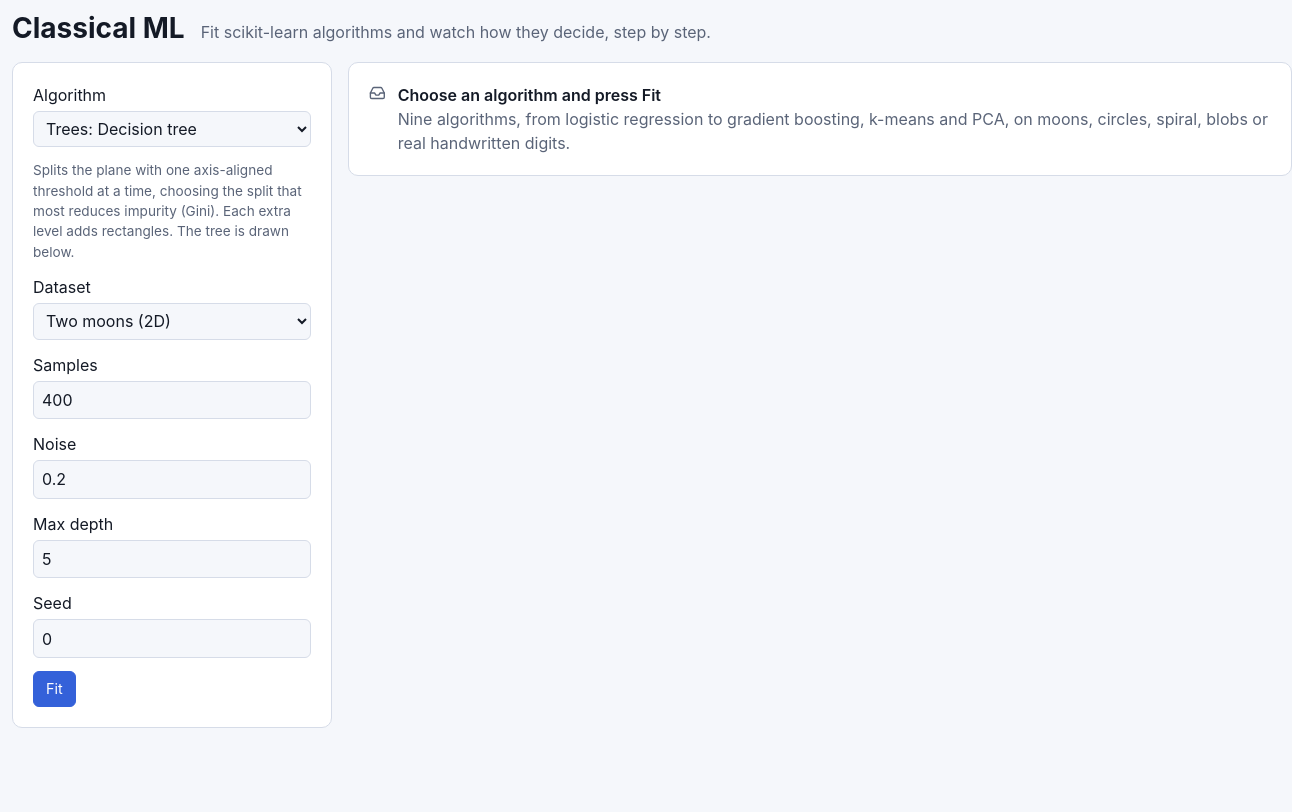
Test case: Classical ML Lab › shows only the parameters and datasets the algorithm uses
Select "Unsupervised: k-Means clustering" in the dropdown labelled "Algorithm". click: x=172, y=129
box: [33,111,311,147]
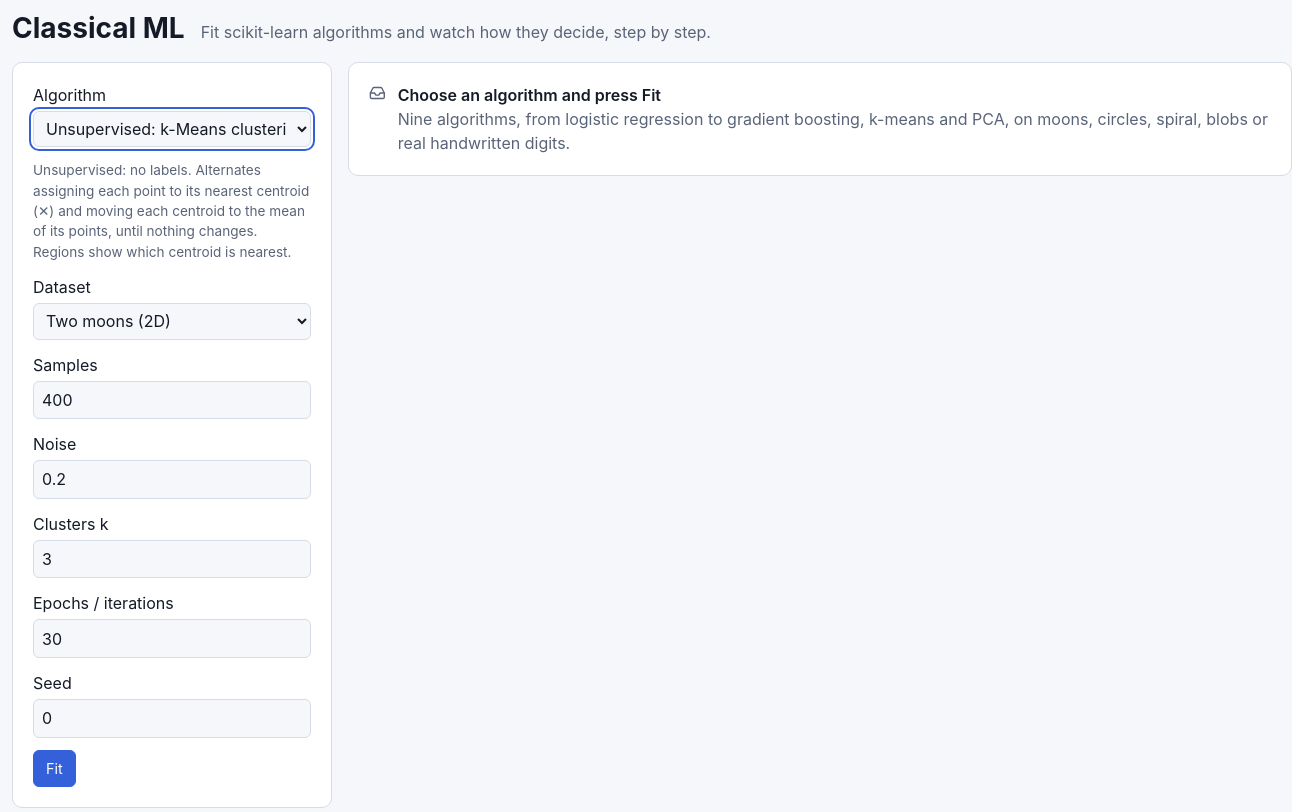
Expected: the number field labelled "Clusters k" is shown, [33,540,311,578]
Now the text "Max depth" is gone
